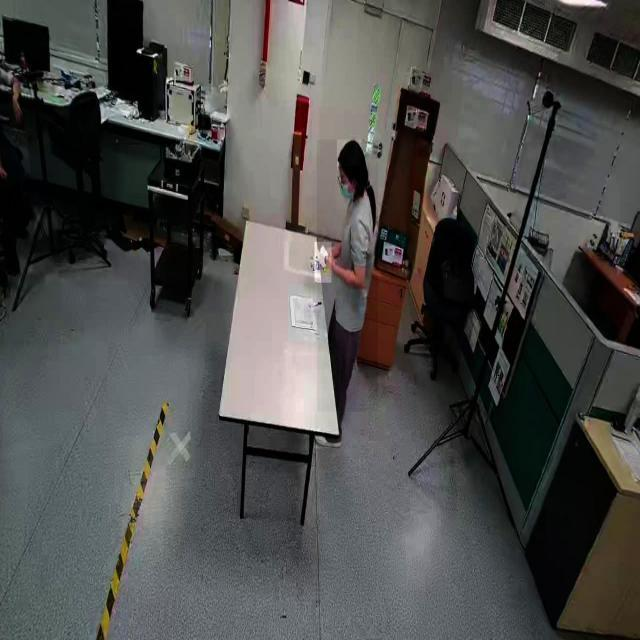gloves: (314, 242, 332, 282)
